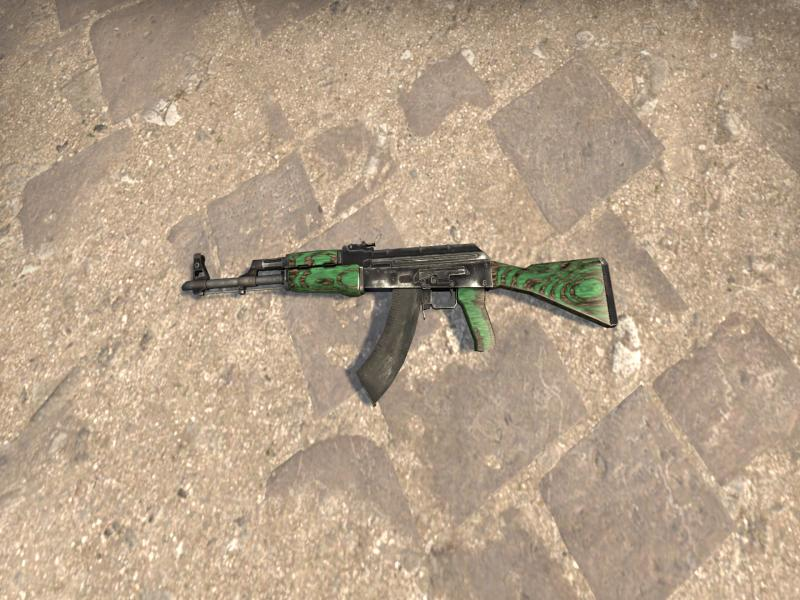AK47: (181, 242, 618, 404)
